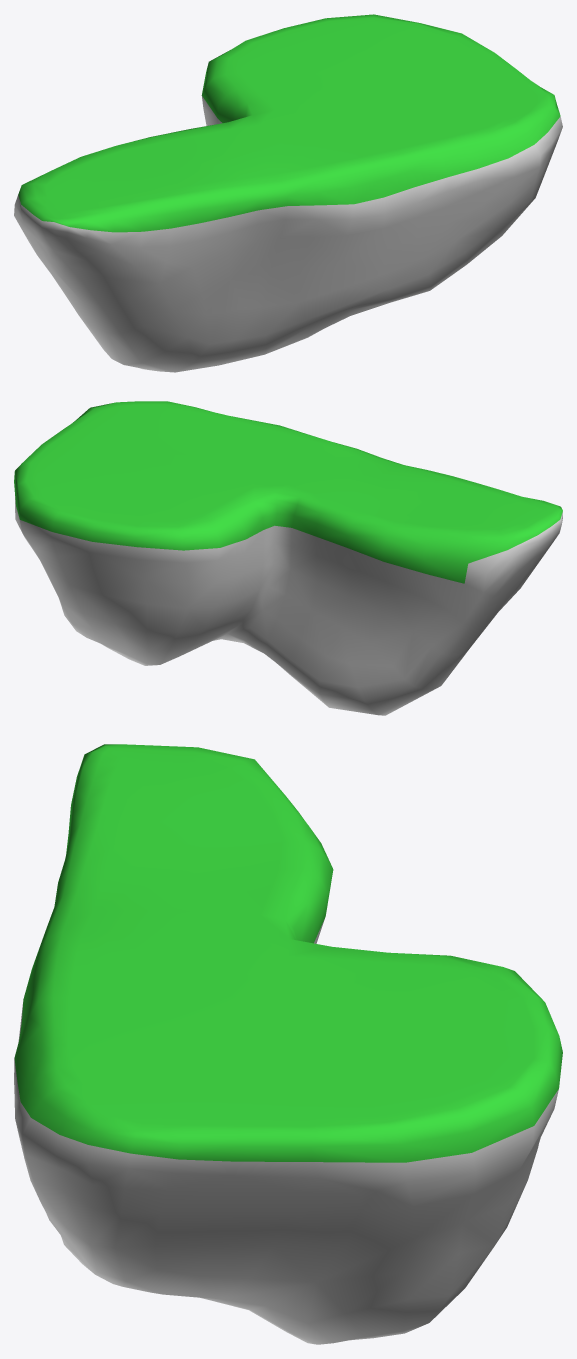
File: platform_r_4_02.fbx
3 renders of one model, top to bottom at view 1: azimuth 30°, elevation 25°; view 2: azimuth 150°, elevation 25°; view 3: azimuth 270°, elevation 25°, orthographic. The views are drawn at different scales.
Parts seen in each view (by area): view 1: platform_l_02.002; view 2: platform_l_02.002; view 3: platform_l_02.002.
Boxes of the visible parts, left/top/right/bottom form: platform_l_02.002: left=14, top=14, right=562, bottom=372; platform_l_02.002: left=14, top=401, right=562, bottom=715; platform_l_02.002: left=14, top=744, right=562, bottom=1344.
Bounding box in the file's own units: 25.13 × 10.6 × 14.82.
